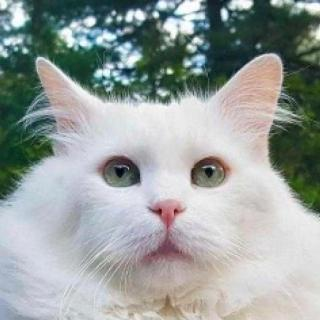cat: (30, 37, 293, 307)
nose: (145, 189, 191, 233)
